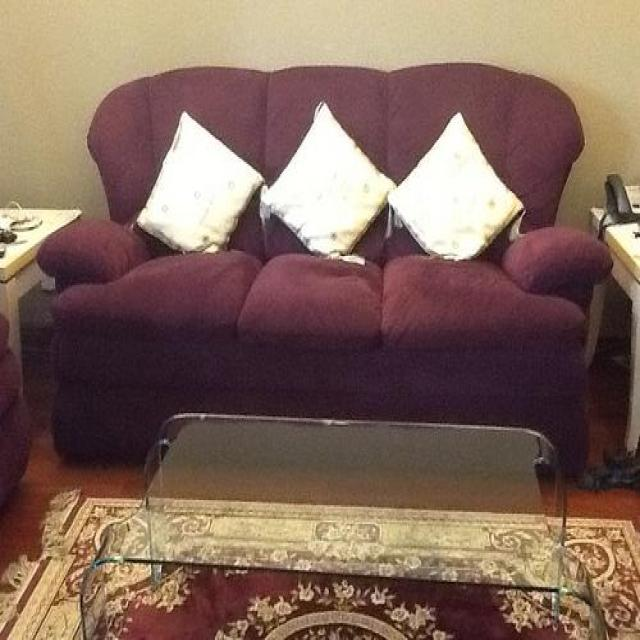sofa: (35, 58, 614, 481)
